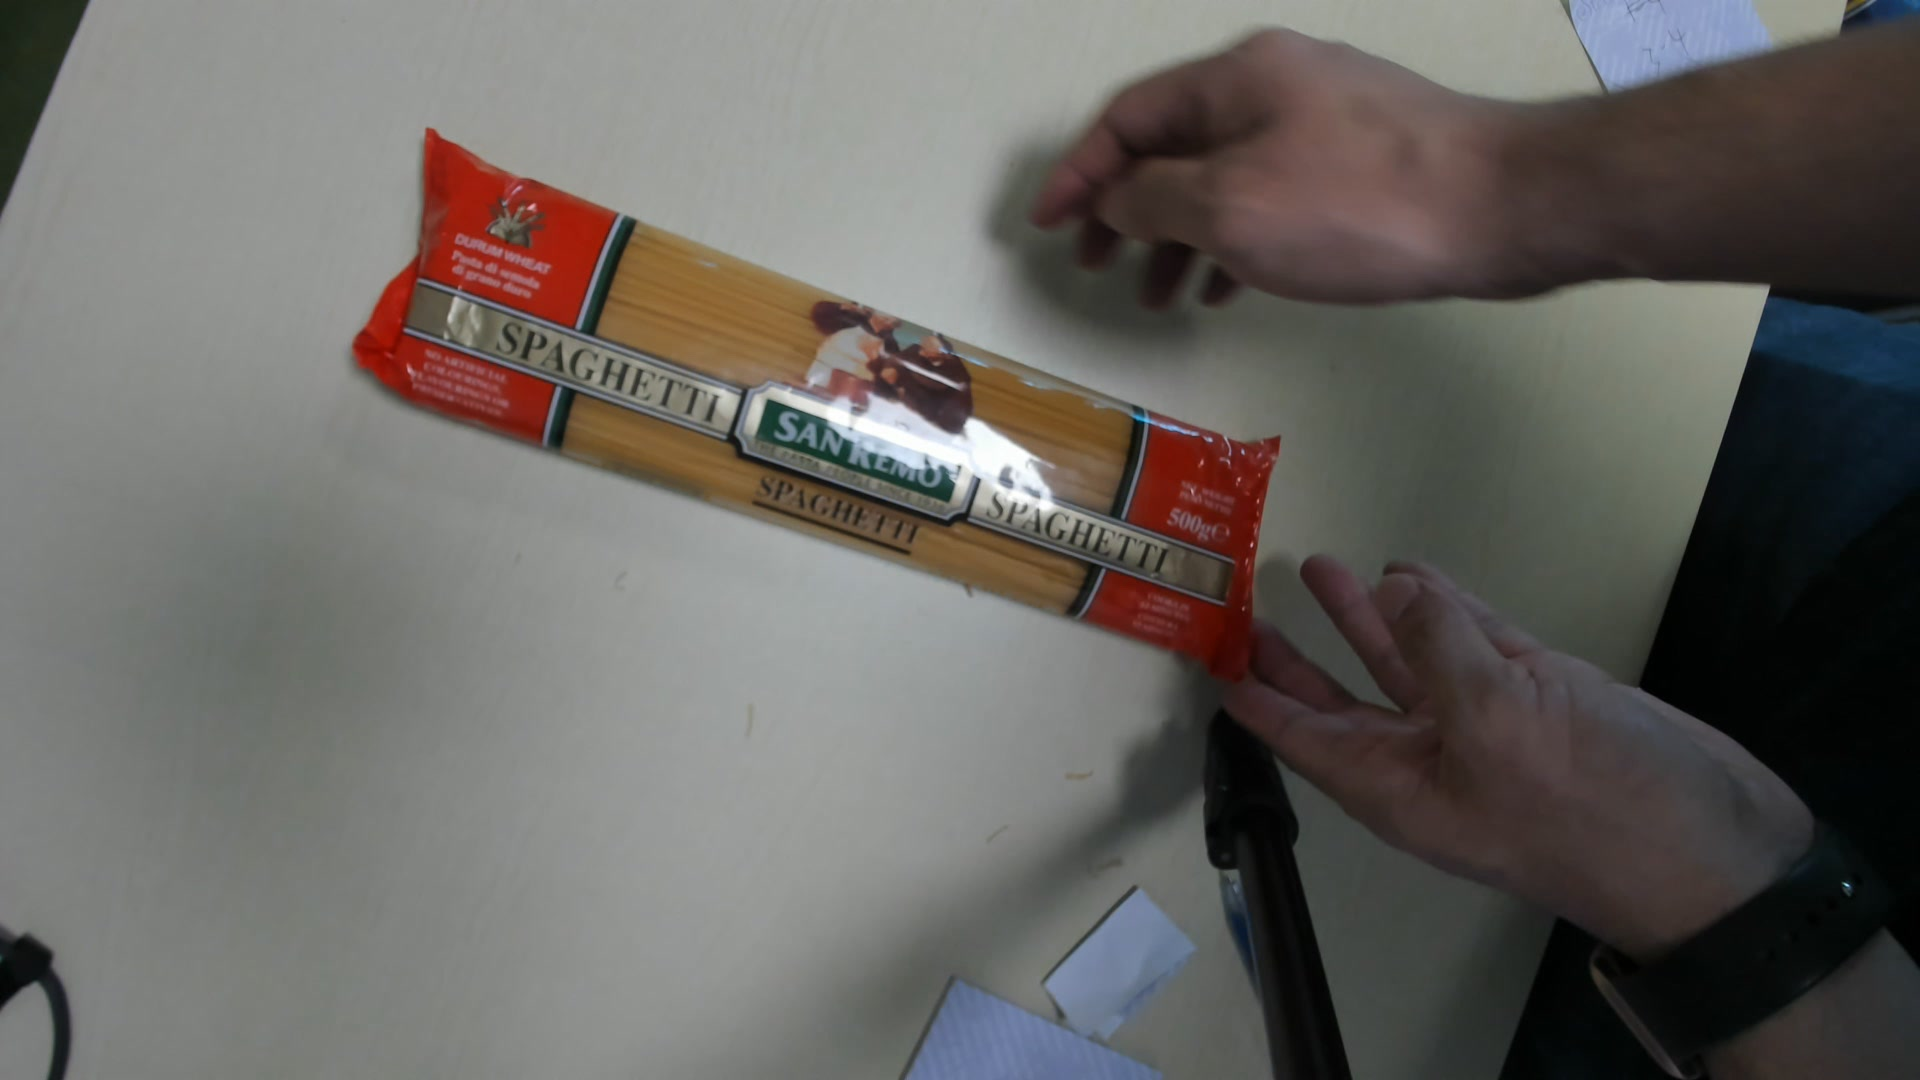Pasta_500-599g_Halal_NonHealthy: (356, 128, 1282, 680)
